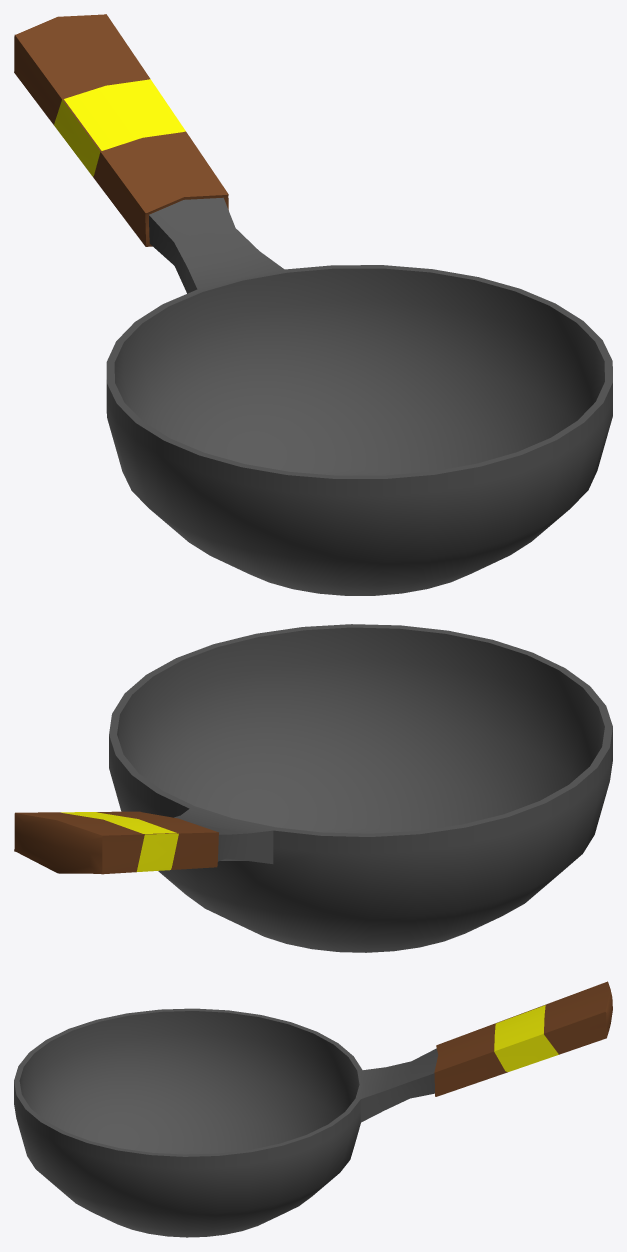
File: WokSelection.fbx
3 views of the same model, one above another, from view 1: azimuth 30°, elevation 25°; view 2: azimuth 150°, elevation 25°; view 3: azimuth 270°, elevation 25° (orthographic). The views are drawn at different scales.
Visible parts, largest first — view 1: Cylinder.002; view 2: Cylinder.002; view 3: Cylinder.002.
Boxes of the visible parts, left/top/right/bottom form: Cylinder.002: left=14, top=14, right=612, bottom=595; Cylinder.002: left=14, top=624, right=612, bottom=952; Cylinder.002: left=14, top=981, right=612, bottom=1237.
Bounding box in the file's own units: 188 × 122 × 321.
